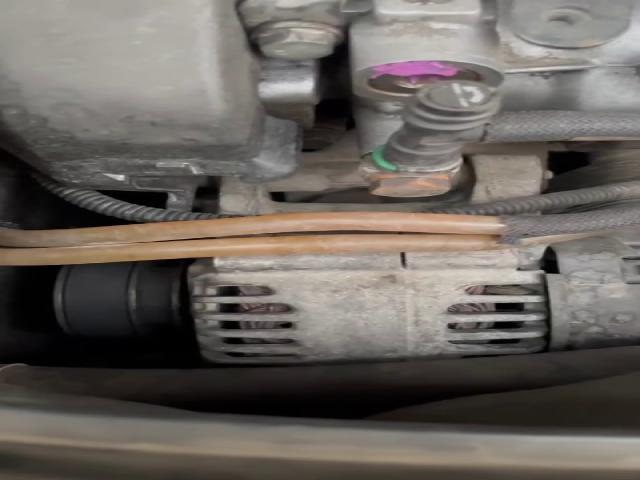alternator: (190, 229, 640, 365)
high_pressure_pump: (349, 0, 637, 115)
